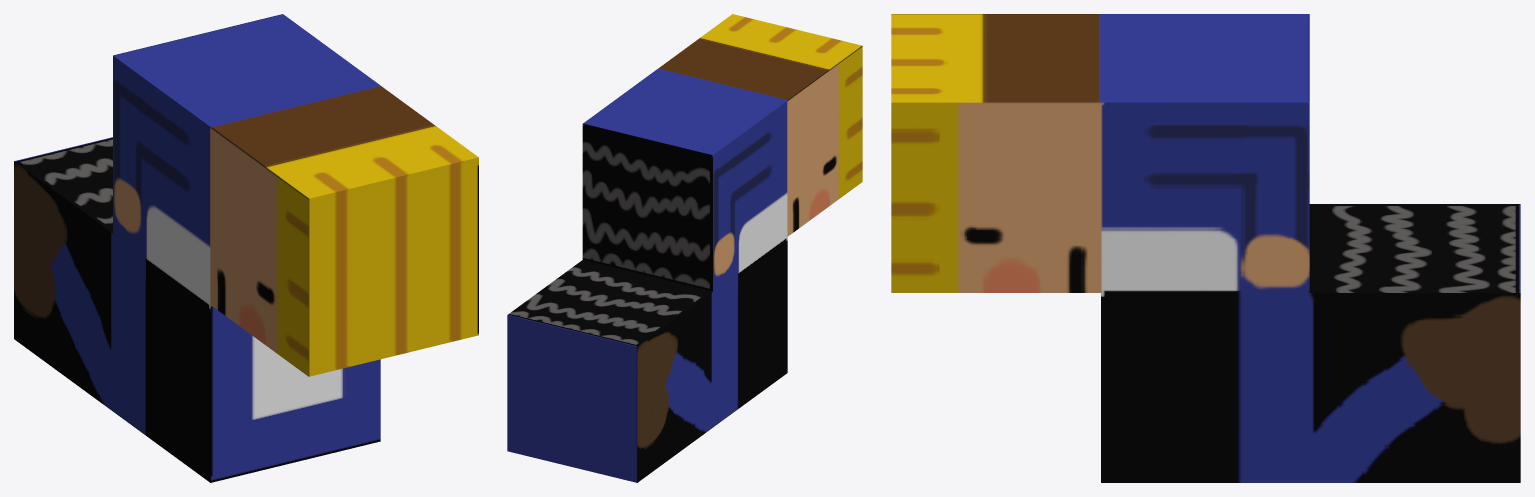
File: zblock.fbx
3 renders of one model, left to right at view 1: azimuth 30°, elevation 25°; view 2: azimuth 150°, elevation 25°; view 3: azimuth 270°, elevation 25°, orthographic. The views are drawn at different scales.
Visible parts, largest first — view 1: Box022; view 2: Box022; view 3: Box022.
Part boxes in pixels (x1,y1,x2,y2): Box022: (14, 14, 478, 482); Box022: (507, 14, 862, 482); Box022: (891, 14, 1520, 482).
Bounding box in the file's own units: 3.94 × 7.87 × 11.81.
